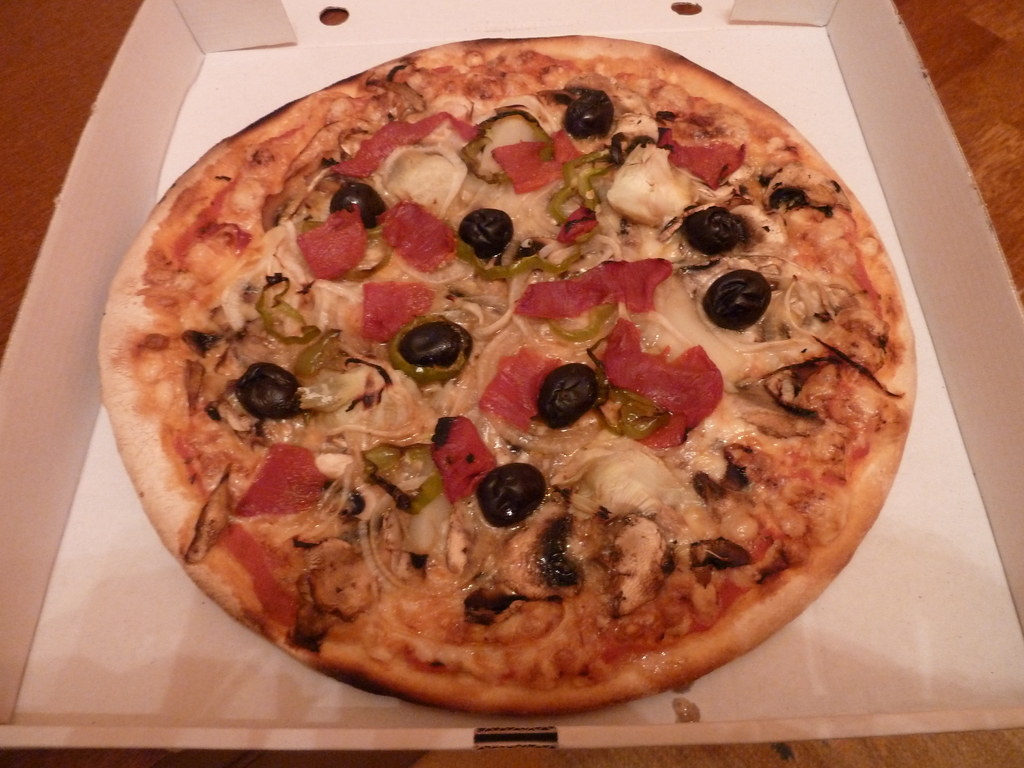Pizza: (97, 32, 919, 720)
